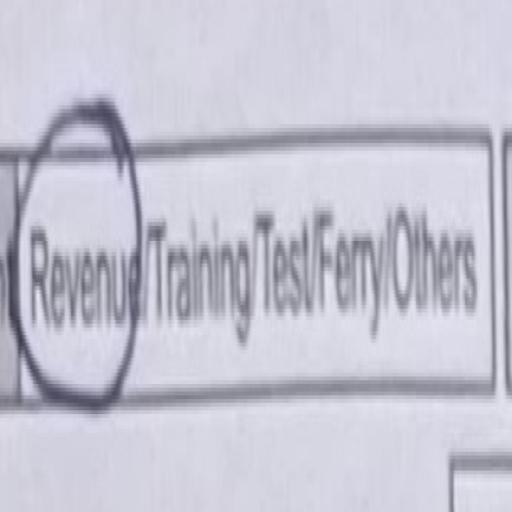check: (0, 52, 147, 447)
